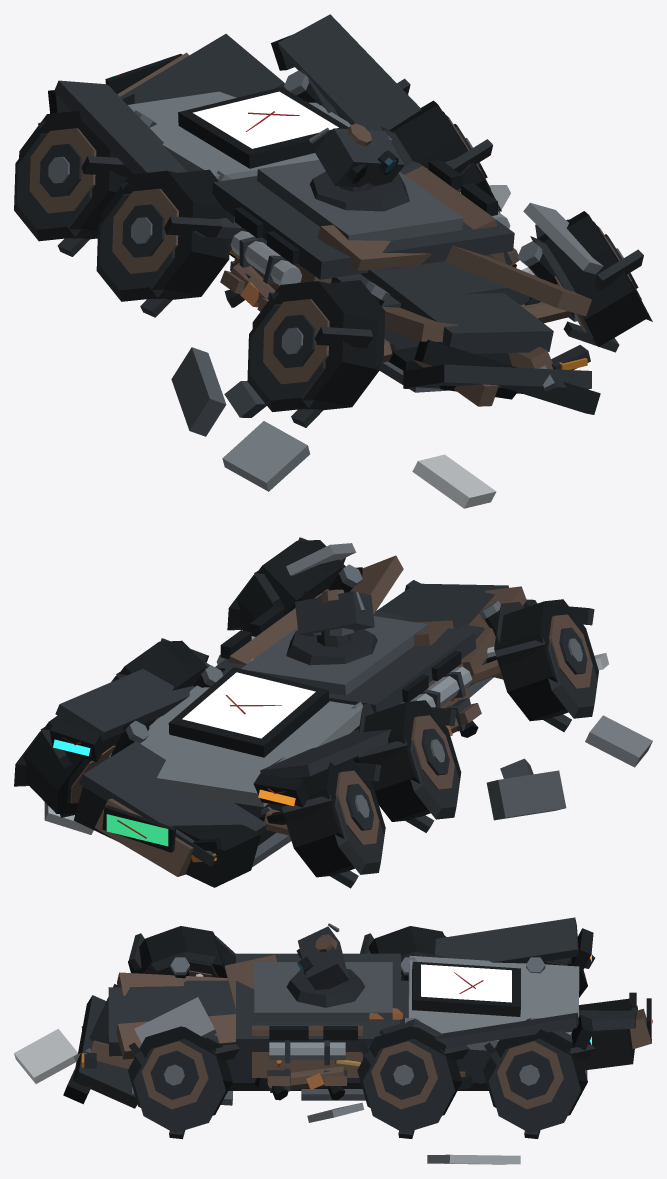
The model's file is r47xs_recon_rover_d3_lod1.glb.
The picture shows the model from 3 angles, top to bottom: view 1: azimuth 30°, elevation 25°; view 2: azimuth 150°, elevation 25°; view 3: azimuth 270°, elevation 25°; orthographic projection. The views are drawn at different scales.
Visible parts, largest first — view 1: CHASSIS_ARMOR_BODY, ZONE_FRONT_BUMPER, WHEEL_FL, WHEEL_ML, ZONE_FLANK_POS_X, WHEEL_RL, ZONE_FLANK_NEG_X, WHEEL_FR, ZONE_REAR_PANEL, WHEEL_MR, DISPLAY_FDAI_TELEMETRY_PANEL, SENSOR_MAST_HEAD (+6 smaller); view 2: CHASSIS_ARMOR_BODY, ZONE_REAR_PANEL, WHEEL_FL, WHEEL_ML, WHEEL_RL, ZONE_FLANK_POS_X, ZONE_FRONT_BUMPER, ZONE_FLANK_NEG_X, WHEEL_FR, DISPLAY_FDAI_TELEMETRY_PANEL, WHEEL_RR, SENSOR_MAST_HEAD (+10 smaller); view 3: CHASSIS_ARMOR_BODY, ZONE_FRONT_BUMPER, WHEEL_MR, WHEEL_FR, ZONE_FLANK_POS_X, WHEEL_RR, ZONE_FLANK_NEG_X, WHEEL_FL, ZONE_REAR_PANEL, DISPLAY_FDAI_TELEMETRY_PANEL, SENSOR_MAST_HEAD, DEBRIS_FRONT_BEAK (+6 smaller).
Boxes of the visible parts, x1,y1,x2,y2 form: CHASSIS_ARMOR_BODY: (128, 87, 529, 370); ZONE_FRONT_BUMPER: (361, 202, 603, 414); WHEEL_FL: (247, 280, 385, 427); WHEEL_ML: (96, 169, 233, 317); ZONE_FLANK_POS_X: (271, 14, 510, 263); WHEEL_RL: (14, 109, 132, 256); ZONE_FLANK_NEG_X: (48, 80, 331, 307); WHEEL_FR: (530, 211, 652, 352); ZONE_REAR_PANEL: (105, 34, 286, 104); WHEEL_MR: (380, 100, 501, 211); DISPLAY_FDAI_TELEMETRY_PANEL: (193, 91, 338, 148); SENSOR_MAST_HEAD: (309, 123, 404, 191); CHASSIS_ARMOR_BODY: (140, 611, 487, 845); ZONE_REAR_PANEL: (73, 741, 291, 887); WHEEL_FL: (494, 599, 598, 731); WHEEL_ML: (358, 700, 461, 832); WHEEL_RL: (281, 758, 385, 888); ZONE_FLANK_POS_X: (49, 606, 297, 761); ZONE_FRONT_BUMPER: (286, 543, 537, 697); ZONE_FLANK_NEG_X: (253, 650, 472, 807); WHEEL_FR: (227, 537, 362, 631); DISPLAY_FDAI_TELEMETRY_PANEL: (182, 672, 315, 738); WHEEL_RR: (14, 715, 149, 817); SENSOR_MAST_HEAD: (295, 589, 374, 647); CHASSIS_ARMOR_BODY: (184, 953, 579, 1100); ZONE_FRONT_BUMPER: (63, 972, 235, 1108); WHEEL_MR: (357, 1019, 469, 1138); WHEEL_FR: (128, 1026, 239, 1139); ZONE_FLANK_POS_X: (252, 1012, 593, 1092); WHEEL_RR: (483, 1029, 595, 1138); ZONE_FLANK_NEG_X: (368, 917, 593, 980); WHEEL_FL: (128, 926, 235, 977); ZONE_REAR_PANEL: (479, 992, 651, 1083); DISPLAY_FDAI_TELEMETRY_PANEL: (421, 964, 511, 1002); SENSOR_MAST_HEAD: (296, 923, 348, 989); DEBRIS_FRONT_BEAK: (14, 1028, 77, 1083).
Bounding box in the file's own units: 3.35 × 1.59 × 5.18.
